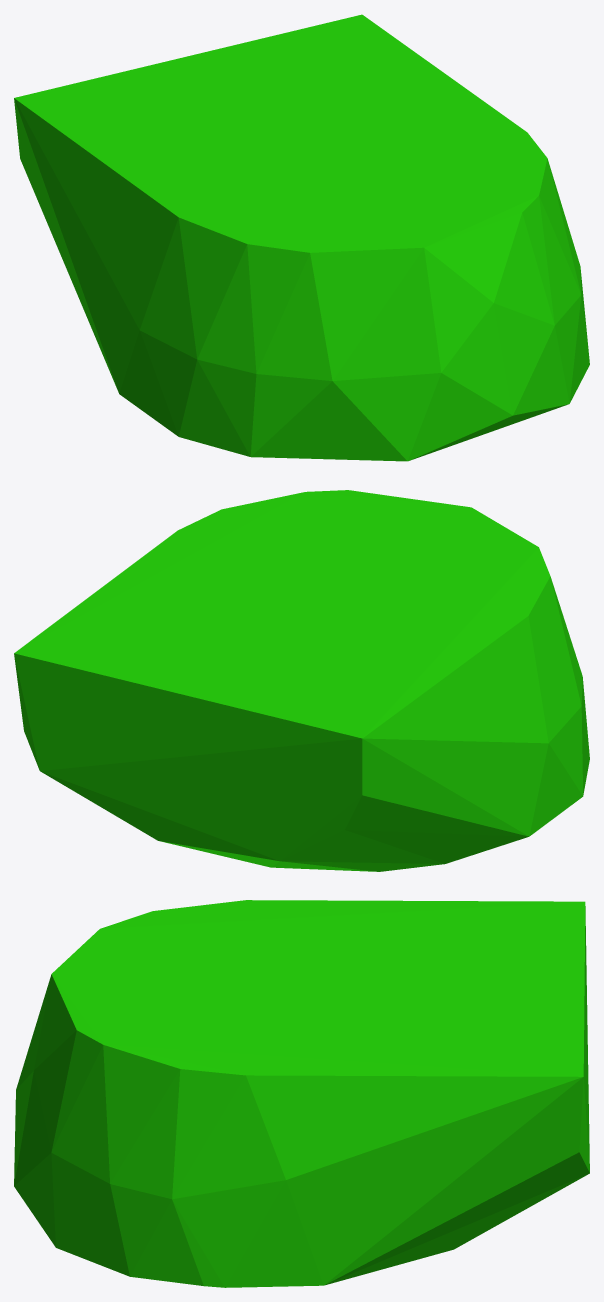
File: arm-L3_convex_piece_001.obj
3 views of the same model, one above another, from view 1: azimuth 30°, elevation 25°; view 2: azimuth 150°, elevation 25°; view 3: azimuth 270°, elevation 25° (orthographic). The views are drawn at different scales.
Bounding box in the file's own units: 0.074 × 0.0335 × 0.087.
